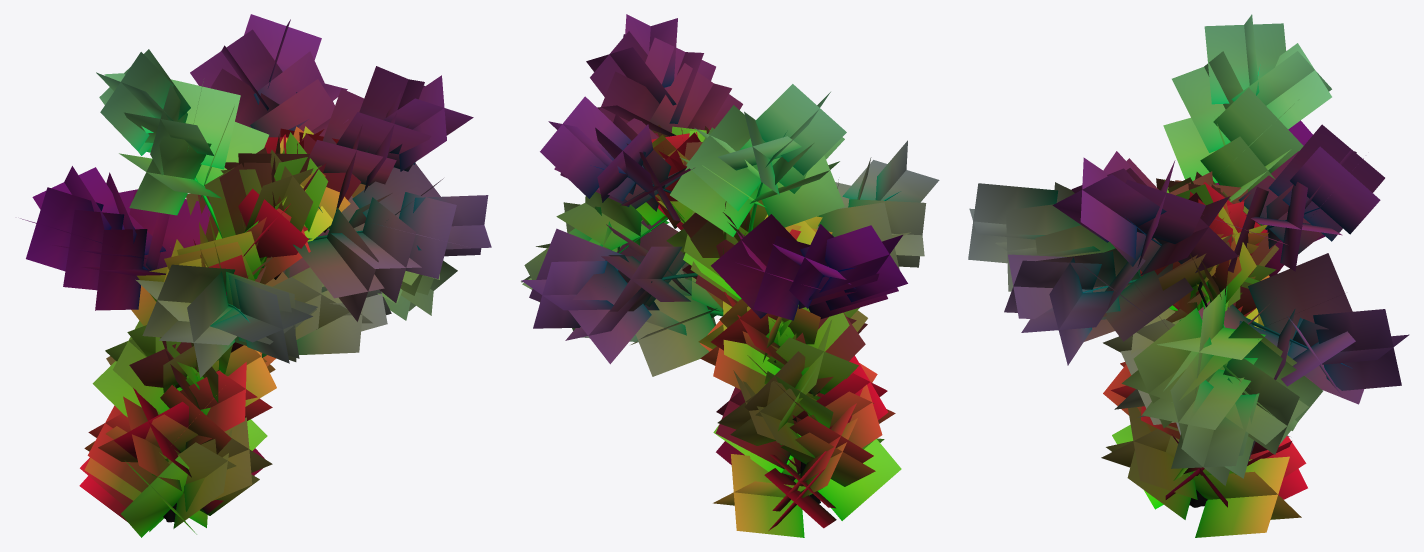
File: URP_P3_Tree_14_LOD_0.fbx
The picture shows the model from 3 angles, left to right: view 1: azimuth 30°, elevation 25°; view 2: azimuth 150°, elevation 25°; view 3: azimuth 270°, elevation 25°; orthographic projection. The views are drawn at different scales.
Visible parts, largest first — view 1: Tree_14_LOD_0; view 2: Tree_14_LOD_0; view 3: Tree_14_LOD_0.
Part boxes in pixels (x1,y1,x2,y2): Tree_14_LOD_0: (20,14,491,537); Tree_14_LOD_0: (521,14,939,537); Tree_14_LOD_0: (968,14,1409,537).
Bounding box in the file's own units: 636 × 712 × 559.
